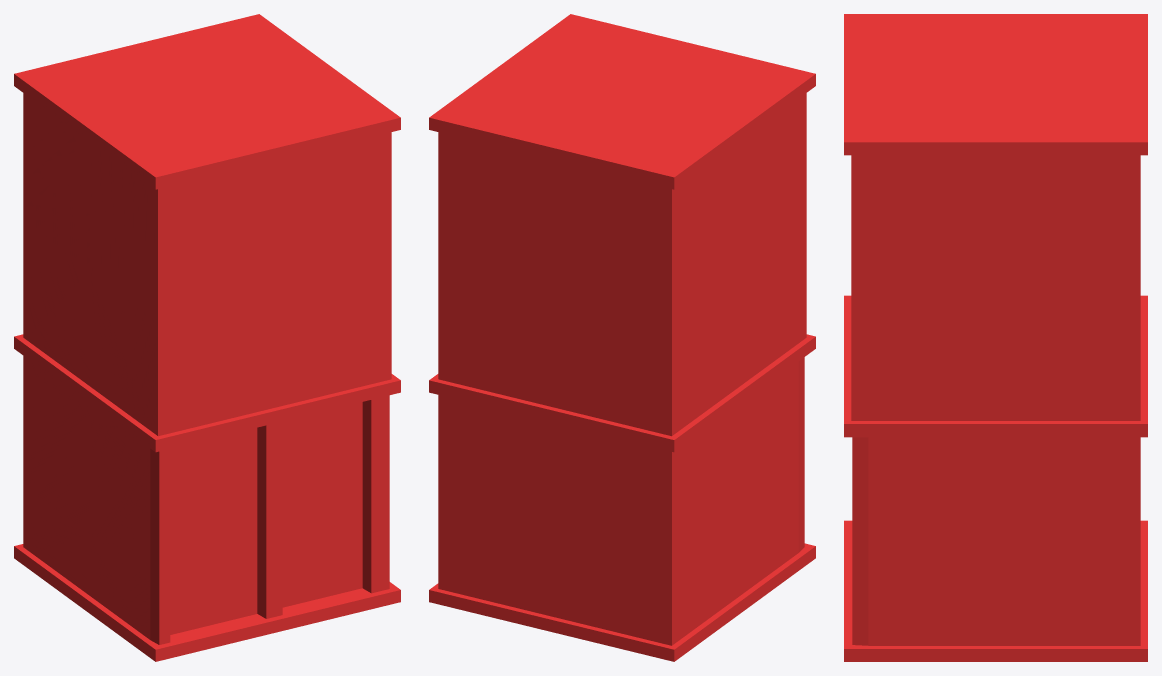
Rendered from Building_Short 1.fbx.
3 views of the same model, side by side, from view 1: azimuth 30°, elevation 25°; view 2: azimuth 150°, elevation 25°; view 3: azimuth 270°, elevation 25° (orthographic). The views are drawn at different scales.
Visible parts, largest first — view 1: Box115; view 2: Box115; view 3: Box115.
Boxes of the visible parts, <box> form: Box115: <box>14,14,400,661</box>; Box115: <box>429,14,815,661</box>; Box115: <box>844,14,1147,661</box>.
Size of the model in its own units: 97.99 by 185 by 97.99.
